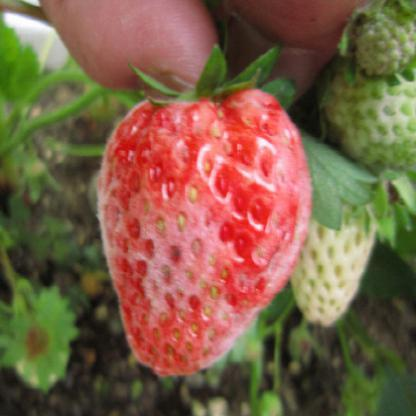Strawberry_Powdery_Mildew_Fruit: (96, 84, 313, 377)
